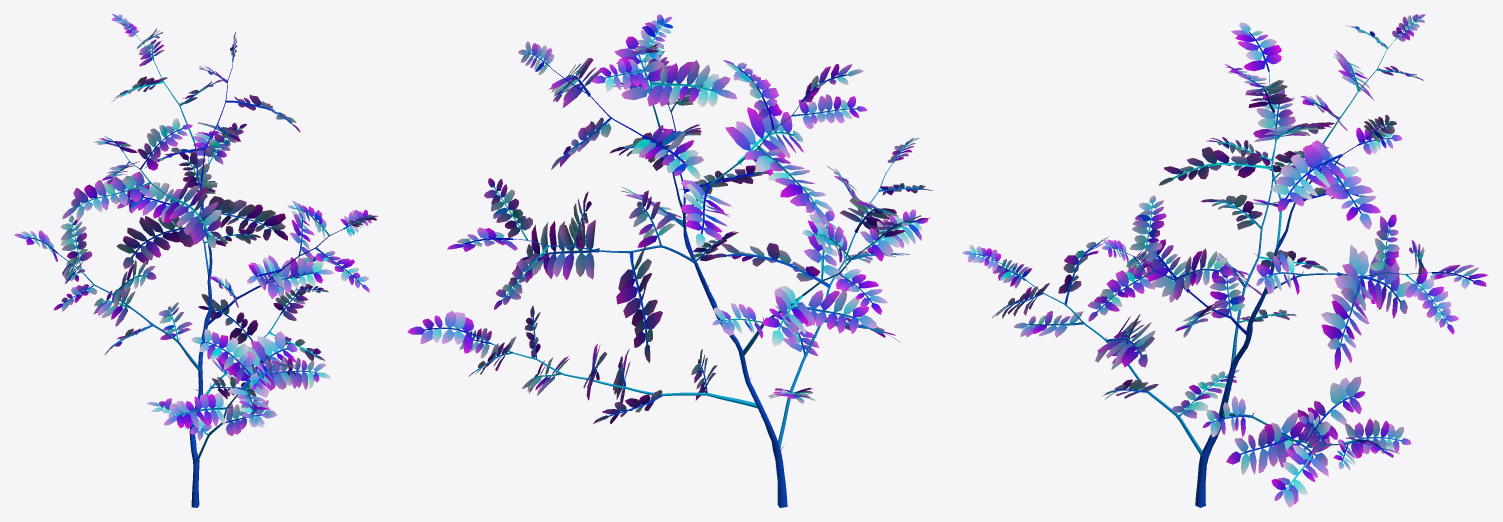
File: Black_Locust_wdvhberja_Mid_wdvhberja_VarH_LOD0.fbx
The picture shows the model from 3 angles, left to right: view 1: azimuth 30°, elevation 25°; view 2: azimuth 150°, elevation 25°; view 3: azimuth 270°, elevation 25°; orthographic projection. The views are drawn at different scales.
Parts seen in each view (by area): view 1: _hmi4_VarH_LOD1; view 2: _hmi4_VarH_LOD1; view 3: _hmi4_VarH_LOD1.
Part boxes in pixels (x1=…): _hmi4_VarH_LOD1: x1=14, y1=14, x2=378, y2=507; _hmi4_VarH_LOD1: x1=407, y1=14, x2=932, y2=507; _hmi4_VarH_LOD1: x1=962, y1=14, x2=1487, y2=507.
Bounding box in the file's own units: 91.75 × 103 × 98.86.
